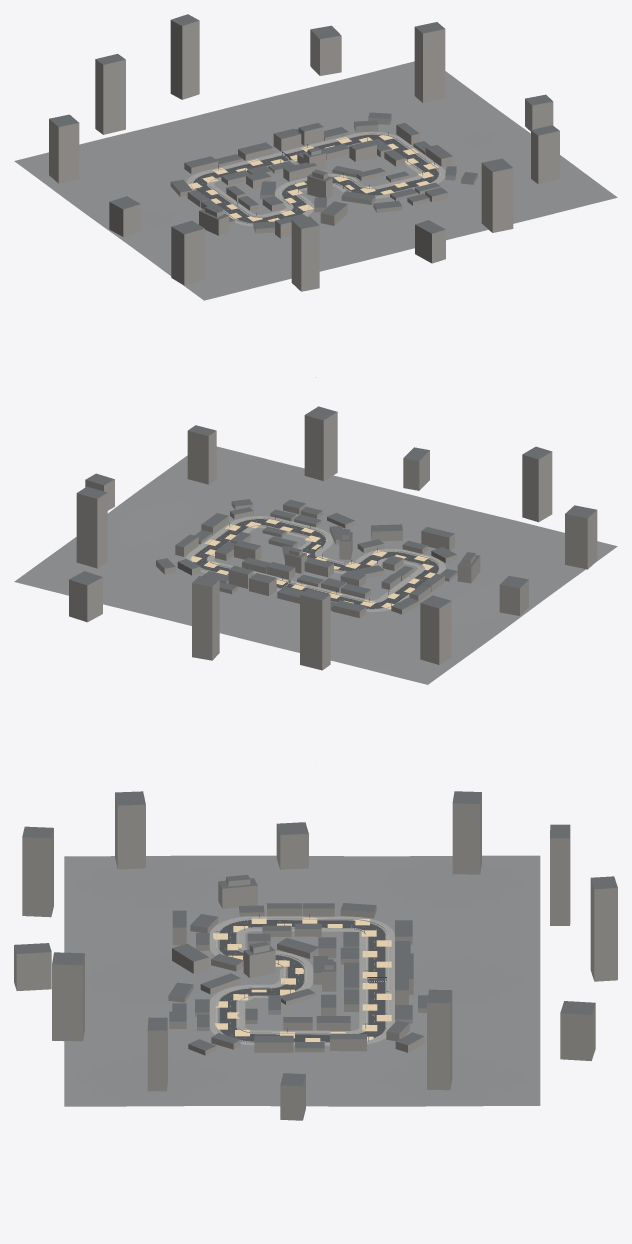
Rendered from industrial_zone.glb.
The picture shows the model from 3 angles, top to bottom: view 1: azimuth 30°, elevation 25°; view 2: azimuth 150°, elevation 25°; view 3: azimuth 270°, elevation 25°; orthographic projection. The views are drawn at different scales.
Parts seen in each view (by area): view 1: industrial_zone - City; view 2: industrial_zone - City; view 3: industrial_zone - City.
Part boxes in pixels (x1=…): industrial_zone - City: x1=14, y1=14, x2=617, y2=300; industrial_zone - City: x1=14, y1=406, x2=617, y2=684; industrial_zone - City: x1=14, y1=791, x2=617, y2=1120.
Bounding box in the file's own units: 932 × 552 × 888.
